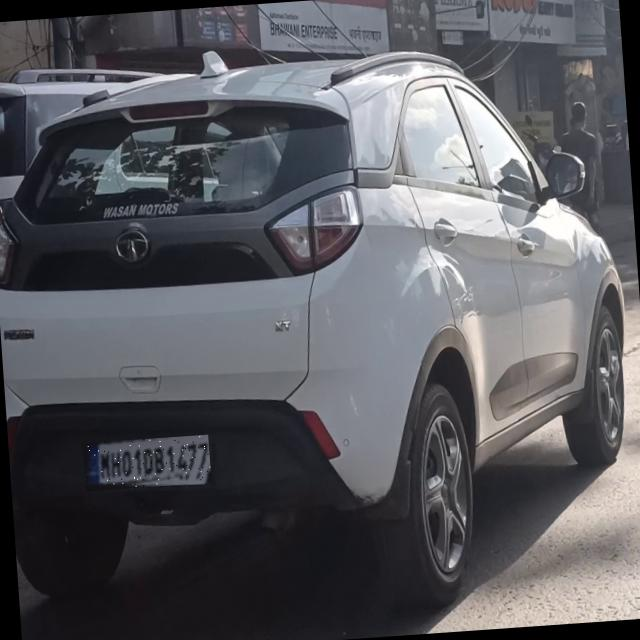Plate: (83, 435, 212, 492)
